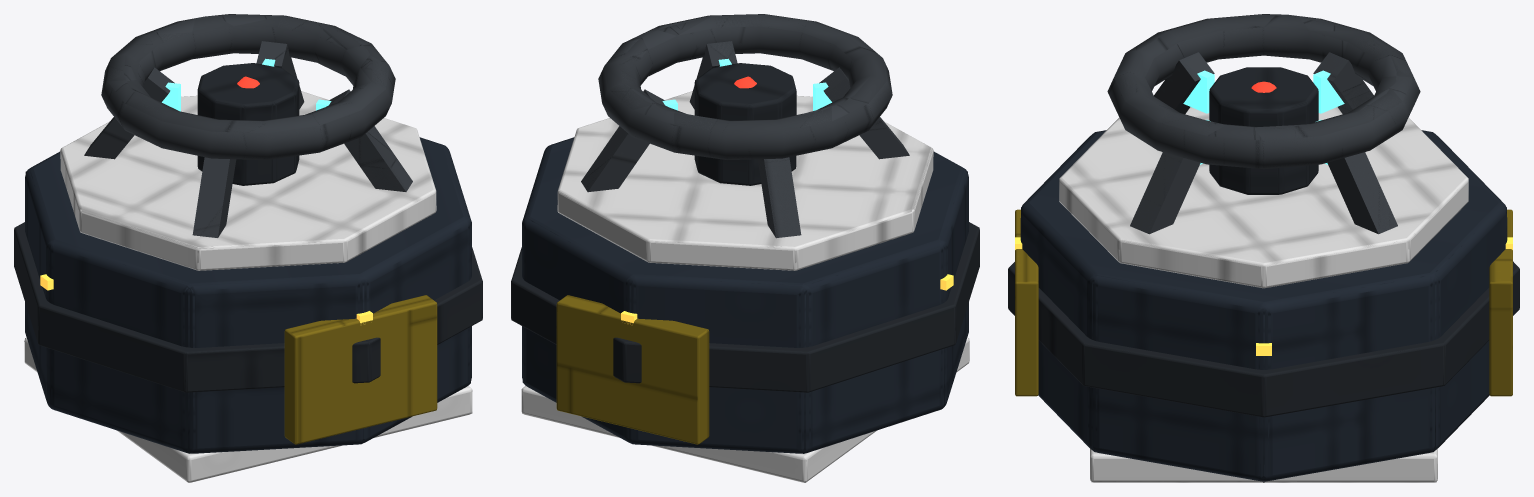
The model's file is place_interdiction_buoy.glb.
3 renders of one model, left to right at view 1: azimuth 30°, elevation 25°; view 2: azimuth 150°, elevation 25°; view 3: azimuth 270°, elevation 25°, orthographic. The views are drawn at different scales.
Visible parts, largest first — view 1: LOD0_Mechanical_navy, LOD0_MechanicalDark, LOD0_Armor, LOD0_Mechanical, LOD0_Warning, LOD1_Armor, LOD2_Armor, LOD1_Mechanical_navy, LOD2_Mechanical_navy, LOD1_Mechanical, LOD2_MechanicalDark, LOD2_Mechanical; view 2: LOD0_Mechanical_navy, LOD0_MechanicalDark, LOD0_Armor, LOD0_Mechanical, LOD0_Warning, LOD1_Armor, LOD2_Armor, LOD1_Mechanical_navy, LOD2_Mechanical_navy, LOD1_Mechanical, LOD2_MechanicalDark, LOD2_Mechanical (+1 smaller); view 3: LOD0_Mechanical_navy, LOD0_MechanicalDark, LOD0_Armor, LOD0_Mechanical, LOD1_Armor, LOD0_Warning, LOD2_Armor, LOD1_Mechanical_navy, LOD2_Mechanical_navy, LOD1_Mechanical, LOD2_Mechanical, LOD0_ANIM_chase_em_1_4_1p8_EmitterSlit1 (+3 smaller).
Part boxes in pixels (left/top/right/bottom): LOD0_Mechanical_navy: left=25, top=137, right=471, bottom=453; LOD0_MechanicalDark: left=24, top=91, right=472, bottom=482; LOD0_Armor: left=84, top=14, right=412, bottom=237; LOD0_Mechanical: left=14, top=63, right=482, bottom=392; LOD0_Warning: left=284, top=295, right=437, bottom=444; LOD1_Armor: left=84, top=14, right=412, bottom=237; LOD2_Armor: left=107, top=14, right=388, bottom=109; LOD1_Mechanical_navy: left=25, top=145, right=471, bottom=453; LOD2_Mechanical_navy: left=25, top=145, right=471, bottom=453; LOD1_Mechanical: left=15, top=63, right=482, bottom=392; LOD2_MechanicalDark: left=25, top=130, right=472, bottom=482; LOD2_Mechanical: left=14, top=71, right=482, bottom=392; LOD0_Mechanical_navy: left=522, top=137, right=968, bottom=453; LOD0_MechanicalDark: left=521, top=91, right=969, bottom=482; LOD0_Armor: left=581, top=14, right=909, bottom=238; LOD0_Mechanical: left=511, top=63, right=979, bottom=392; LOD0_Warning: left=556, top=295, right=709, bottom=444; LOD1_Armor: left=581, top=14, right=909, bottom=237; LOD2_Armor: left=619, top=16, right=871, bottom=125; LOD1_Mechanical_navy: left=522, top=145, right=968, bottom=453; LOD2_Mechanical_navy: left=522, top=145, right=967, bottom=453; LOD1_Mechanical: left=511, top=63, right=978, bottom=391; LOD2_MechanicalDark: left=522, top=129, right=969, bottom=482; LOD2_Mechanical: left=511, top=69, right=979, bottom=392; LOD0_Mechanical_navy: left=1021, top=130, right=1506, bottom=480; LOD0_MechanicalDark: left=1059, top=107, right=1468, bottom=482; LOD0_Armor: left=1107, top=14, right=1420, bottom=234; LOD0_Mechanical: left=1008, top=67, right=1519, bottom=417; LOD1_Armor: left=1108, top=14, right=1419, bottom=233; LOD0_Warning: left=1015, top=209, right=1512, bottom=396; LOD2_Armor: left=1173, top=14, right=1413, bottom=140; LOD1_Mechanical_navy: left=1021, top=132, right=1506, bottom=481; LOD2_Mechanical_navy: left=1020, top=130, right=1507, bottom=481; LOD1_Mechanical: left=1008, top=75, right=1519, bottom=482; LOD2_Mechanical: left=1008, top=75, right=1519, bottom=417; LOD0_ANIM_chase_em_1_4_1p8_EmitterSlit1: left=1313, top=70, right=1344, bottom=113.
Size of what is drawn, in the model's own units: 6.47 by 5.03 by 6.47.
13 materials, 10 textured.
